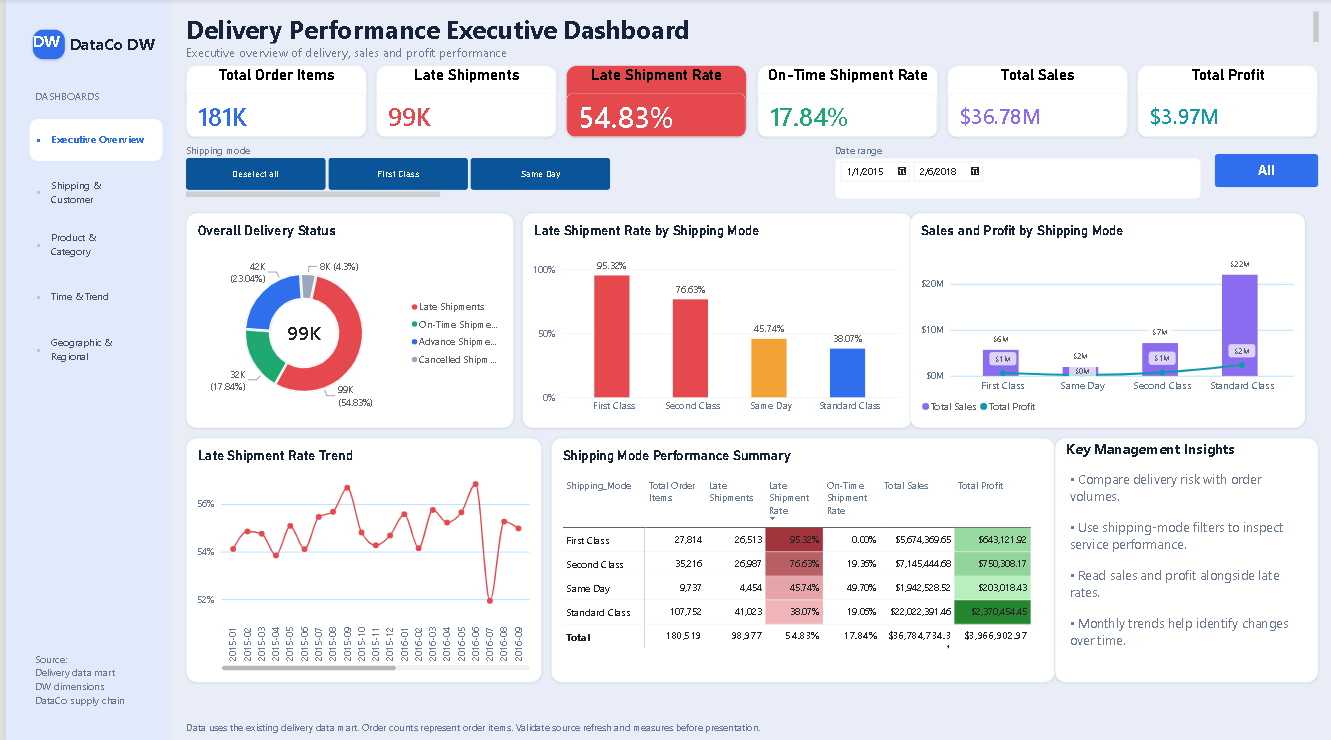

Layout of this report page (visuals, bound fields, positions):
{"tool":"powerbi","page":{"name":"Executive Overview","canvas":[1920,1080],"ordinal":0},"visuals":[{"type":"textbox","box":[0,0,240,1080],"z":0},{"type":"textbox","box":[38,44,48,45],"z":1000},{"type":"textbox","box":[92,48,136,42],"z":2000},{"type":"textbox","box":[42,130,180,30],"z":3000},{"type":"textbox","box":[42,944,174,95],"z":4000},{"type":"textbox","box":[260,18,1640,46],"z":5000},{"type":"textbox","box":[260,65,1640,25],"z":6000},{"type":"textbox","box":[260,1045,1640,24],"z":7000},{"type":"cardVisual","title":"Total Order Items","fields":{"Data":["DM FactDeliveryPerformance.Total Order Items"]},"box":[260,96,261.7,105],"z":8000},{"type":"cardVisual","title":"Late Shipments","fields":{"Data":["DM FactDeliveryPerformance.Late Shipments"]},"box":[535.7,96,261.7,105],"z":9000},{"type":"cardVisual","title":"Late Shipment Rate","fields":{"Data":["DM FactDeliveryPerformance.Late Shipment Rate"]},"box":[811.3,96,261.7,105],"z":10000},{"type":"cardVisual","title":"On-Time Shipment Rate","fields":{"Data":["DM FactDeliveryPerformance.On-Time Shipment Rate"]},"box":[1087,96,261.7,105],"z":11000},{"type":"cardVisual","title":"Total Sales","fields":{"Data":["DM FactDeliveryPerformance.Total Sales"]},"box":[1362.7,96,261.7,105],"z":12000},{"type":"cardVisual","title":"Total Profit","fields":{"Data":["DM FactDeliveryPerformance.Total Profit"]},"box":[1638.3,96,261.7,105],"z":13000},{"type":"donutChart","title":"Overall Delivery Status","fields":{"Y":["DM FactDeliveryPerformance.Late Shipments","DM FactDeliveryPerformance.On-Time Shipments","DM FactDeliveryPerformance.Advance Shipments","DM FactDeliveryPerformance.Cancelled Shipments"]},"box":[260,310,474,312],"z":14000},{"type":"clusteredColumnChart","title":"Late Shipment Rate by Shipping Mode","fields":{"Category":["DW DimShipping.Shipping_Mode"],"Y":["DM FactDeliveryPerformance.Late Shipment Rate"]},"box":[748,310,565,312],"z":15000},{"type":"lineClusteredColumnComboChart","title":"Sales and Profit by Shipping Mode","fields":{"Category":["DW DimShipping.Shipping_Mode"],"Y":["DM FactDeliveryPerformance.Total Sales"],"Y2":["DM FactDeliveryPerformance.Total Profit"]},"box":[1308.4,309.5,573,312],"z":16000},{"type":"lineChart","title":"Late Shipment Rate Trend","fields":{"Category":["DW DimDate.Year Month"],"Y":["DM FactDeliveryPerformance.Late Shipment Rate"]},"box":[260,636,515,354],"z":17000},{"type":"pivotTable","title":"Shipping Mode Performance Summary","fields":{"Rows":["DW DimShipping.Shipping_Mode"],"Values":["DM FactDeliveryPerformance.Total Order Items","DM FactDeliveryPerformance.Late Shipments","DM FactDeliveryPerformance.Late Shipment Rate","DM FactDeliveryPerformance.On-Time Shipment Rate","DM FactDeliveryPerformance.Total Sales","DM FactDeliveryPerformance.Total Profit"]},"box":[789,635.2,729.3,354.7],"z":18000},{"type":"textbox","box":[1518.3,635.2,381.8,354.7],"z":19000},{"type":"textbox","box":[1540,682.2,342,295],"z":20000},{"type":"textbox","box":[34,174,192,61],"z":21000},{"type":"textbox","box":[65,191,165,48],"z":22000},{"type":"textbox","box":[65,258,165,48],"z":23000},{"type":"textbox","box":[65,334,165,48],"z":24000},{"type":"textbox","box":[65,419,165,48],"z":25000},{"type":"textbox","box":[65,486,165,48],"z":26000},{"type":"textbox","box":[44,344,22,28],"z":27000},{"type":"textbox","box":[44,192,22,28],"z":28000},{"type":"textbox","box":[44,420,22,28],"z":29000},{"type":"textbox","box":[44,268,22,28],"z":30000},{"type":"textbox","box":[44,496,22,28],"z":31000},{"type":"actionButton","box":[34,174,192,61],"z":32000},{"type":"actionButton","box":[34,250,192,61],"z":33000},{"type":"actionButton","box":[34,326,192,61],"z":34000},{"type":"actionButton","box":[34,402,192,61],"z":35000},{"type":"actionButton","box":[34,478,192,61],"z":36000},{"type":"textbox","box":[1200,208,530,21],"z":37000},{"type":"textbox","box":[260,208,910,21],"z":38000},{"type":"slicer","fields":{"Values":["DW DimDate.FullDate"]},"box":[1200,229,530,60],"z":39000},{"type":"actionButton","box":[1750,225,150,48],"z":40000},{"type":"advancedSlicerVisual","fields":{"Values":["DW DimShipping.Shipping_Mode"]},"box":[260.6,229.8,615.3,59.7],"z":41000}]}

Visuals, with their boxes on the page's 1920x1080 design canvas (x1, y1, x2, y2). These are canvas units, not pixel positions in the 1331x740 screenshot, which may show the page scaled, cropped or inside an application window:
textbox: Rect(0, 0, 240, 1080)
textbox: Rect(38, 44, 86, 89)
textbox: Rect(92, 48, 228, 90)
textbox: Rect(42, 130, 222, 160)
textbox: Rect(42, 944, 216, 1039)
textbox: Rect(260, 18, 1900, 64)
textbox: Rect(260, 65, 1900, 90)
textbox: Rect(260, 1045, 1900, 1069)
"Total Order Items" cardVisual: Rect(260, 96, 522, 201)
"Late Shipments" cardVisual: Rect(536, 96, 797, 201)
"Late Shipment Rate" cardVisual: Rect(811, 96, 1073, 201)
"On-Time Shipment Rate" cardVisual: Rect(1087, 96, 1349, 201)
"Total Sales" cardVisual: Rect(1363, 96, 1624, 201)
"Total Profit" cardVisual: Rect(1638, 96, 1900, 201)
"Overall Delivery Status" donutChart: Rect(260, 310, 734, 622)
"Late Shipment Rate by Shipping Mode" clusteredColumnChart: Rect(748, 310, 1313, 622)
"Sales and Profit by Shipping Mode" lineClusteredColumnComboChart: Rect(1308, 310, 1881, 622)
"Late Shipment Rate Trend" lineChart: Rect(260, 636, 775, 990)
"Shipping Mode Performance Summary" pivotTable: Rect(789, 635, 1518, 990)
textbox: Rect(1518, 635, 1900, 990)
textbox: Rect(1540, 682, 1882, 977)
textbox: Rect(34, 174, 226, 235)
textbox: Rect(65, 191, 230, 239)
textbox: Rect(65, 258, 230, 306)
textbox: Rect(65, 334, 230, 382)
textbox: Rect(65, 419, 230, 467)
textbox: Rect(65, 486, 230, 534)
textbox: Rect(44, 344, 66, 372)
textbox: Rect(44, 192, 66, 220)
textbox: Rect(44, 420, 66, 448)
textbox: Rect(44, 268, 66, 296)
textbox: Rect(44, 496, 66, 524)
actionButton: Rect(34, 174, 226, 235)
actionButton: Rect(34, 250, 226, 311)
actionButton: Rect(34, 326, 226, 387)
actionButton: Rect(34, 402, 226, 463)
actionButton: Rect(34, 478, 226, 539)
textbox: Rect(1200, 208, 1730, 229)
textbox: Rect(260, 208, 1170, 229)
slicer - DW DimDate.FullDate: Rect(1200, 229, 1730, 289)
actionButton: Rect(1750, 225, 1900, 273)
advancedSlicerVisual - DW DimShipping.Shipping_Mode: Rect(261, 230, 876, 290)
